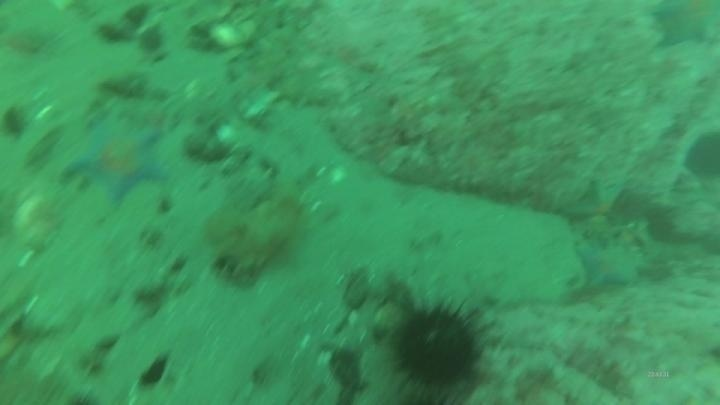echinus: (388, 299, 487, 396)
holothurian: (206, 195, 307, 286)
starfish: (63, 115, 171, 207), (573, 238, 645, 292), (565, 176, 632, 233), (648, 1, 719, 53)
